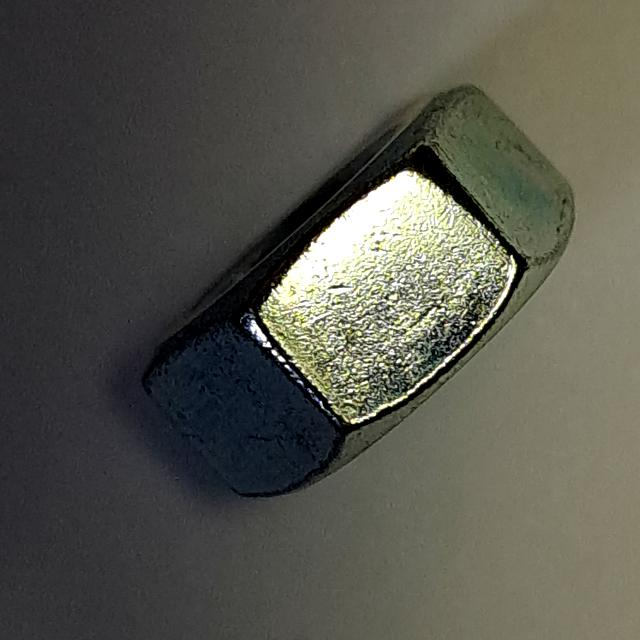Side_Excellent: (124, 68, 583, 514)
